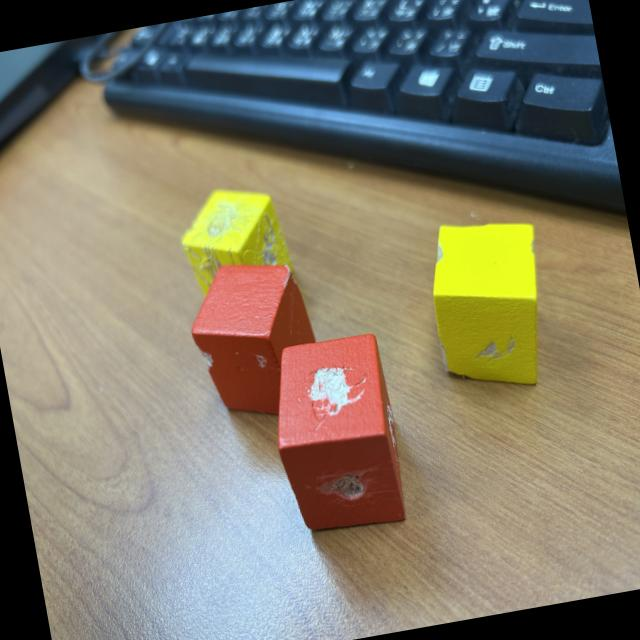broken: (261, 330, 411, 538), (418, 208, 561, 400), (180, 250, 328, 430), (172, 175, 298, 318)
